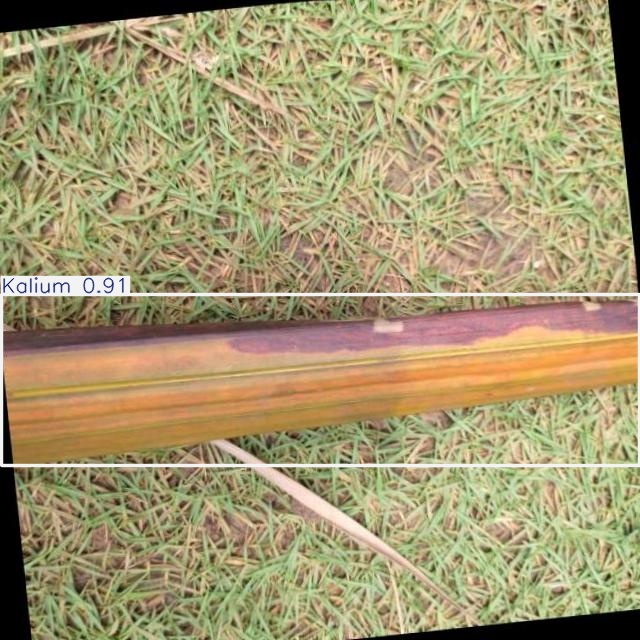Kalium: (1, 295, 640, 465)
